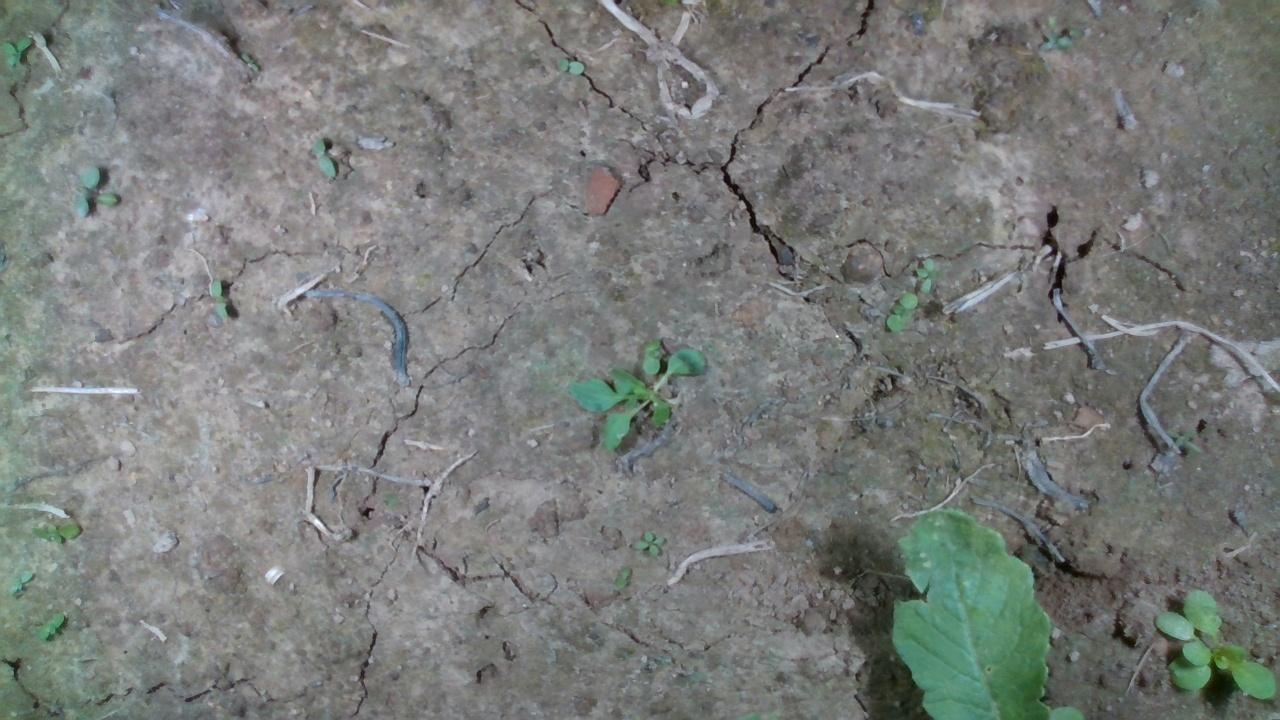weed: (31, 518, 81, 547), (885, 292, 917, 333), (312, 137, 337, 180), (630, 530, 665, 558), (8, 566, 35, 597), (210, 277, 229, 321), (38, 611, 66, 640), (554, 57, 587, 75), (614, 566, 630, 589)
